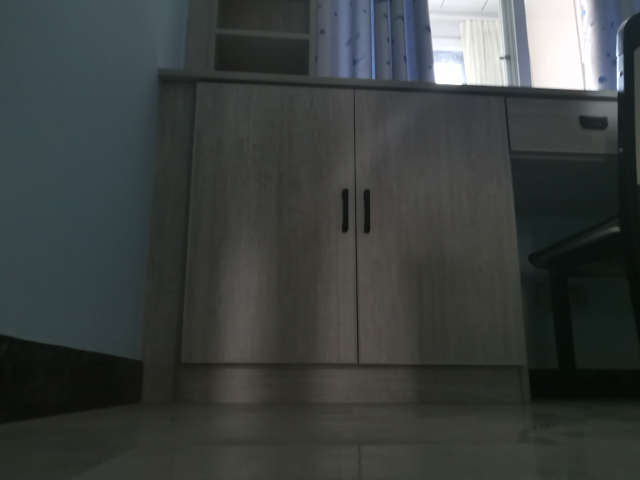cabinet: (153, 78, 508, 406)
stool: (522, 8, 640, 394)
